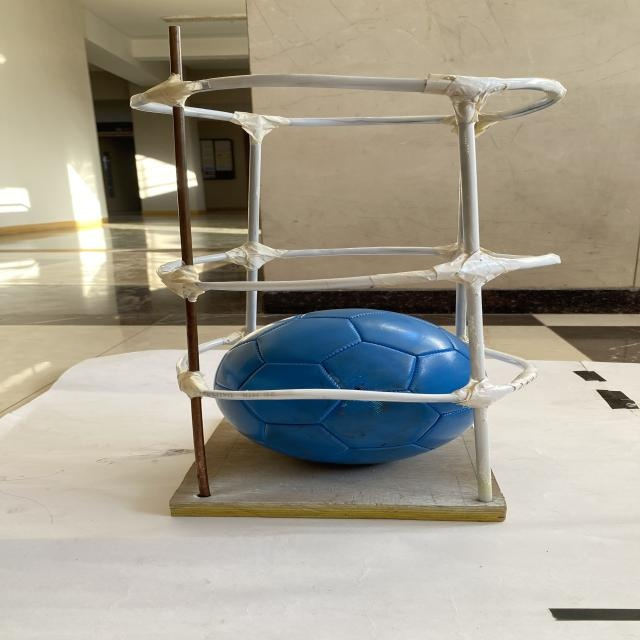blue_ball: (226, 313, 474, 467)
silo: (145, 70, 560, 536)
